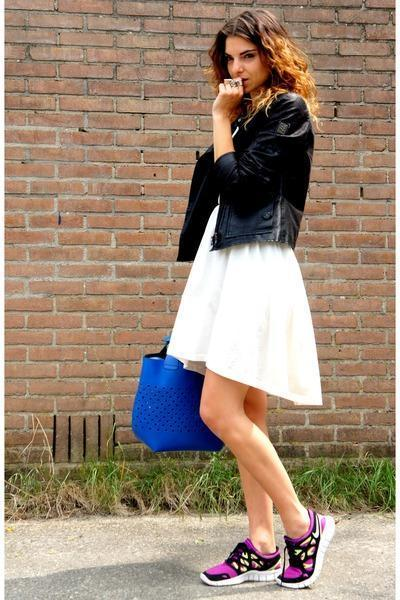bag: (132, 348, 224, 451)
dress: (167, 205, 321, 404)
jacket: (177, 95, 313, 261)
shoe: (228, 516, 319, 574)
